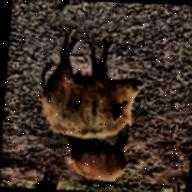boar: (38, 36, 159, 151), (58, 126, 139, 192)
